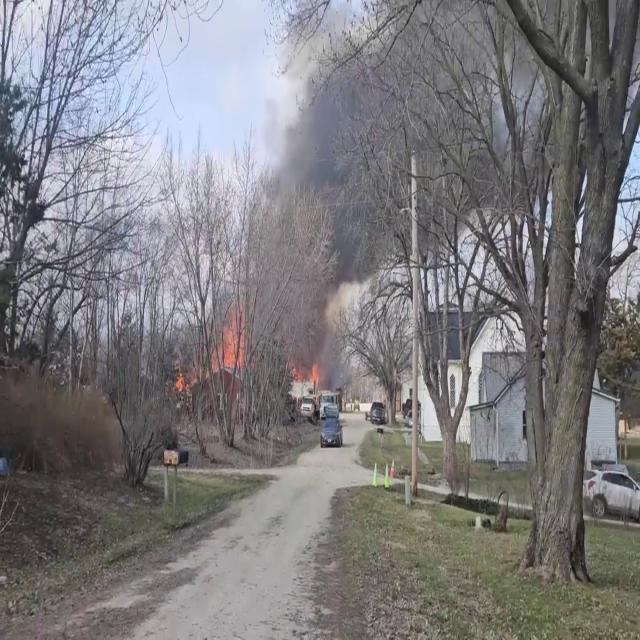Fire: (219, 316, 249, 374)
Smoke: (212, 0, 504, 373)
